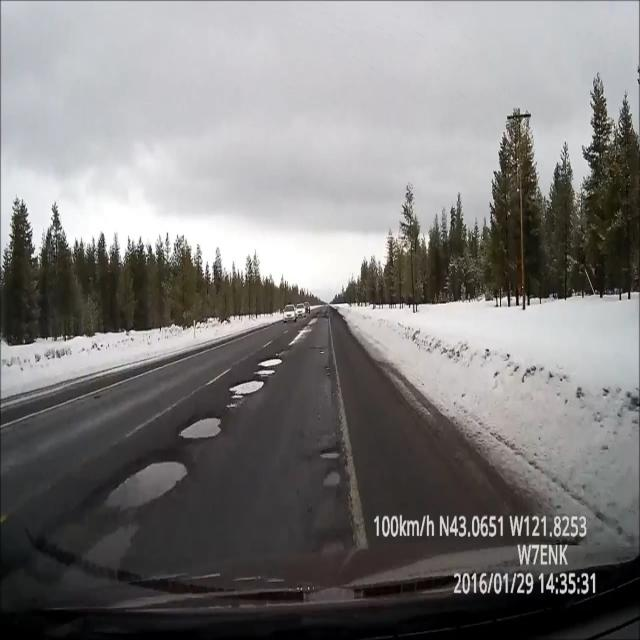Pothole: (108, 454, 191, 519), (315, 433, 350, 499), (174, 407, 222, 440), (222, 378, 268, 396), (249, 351, 289, 365)
